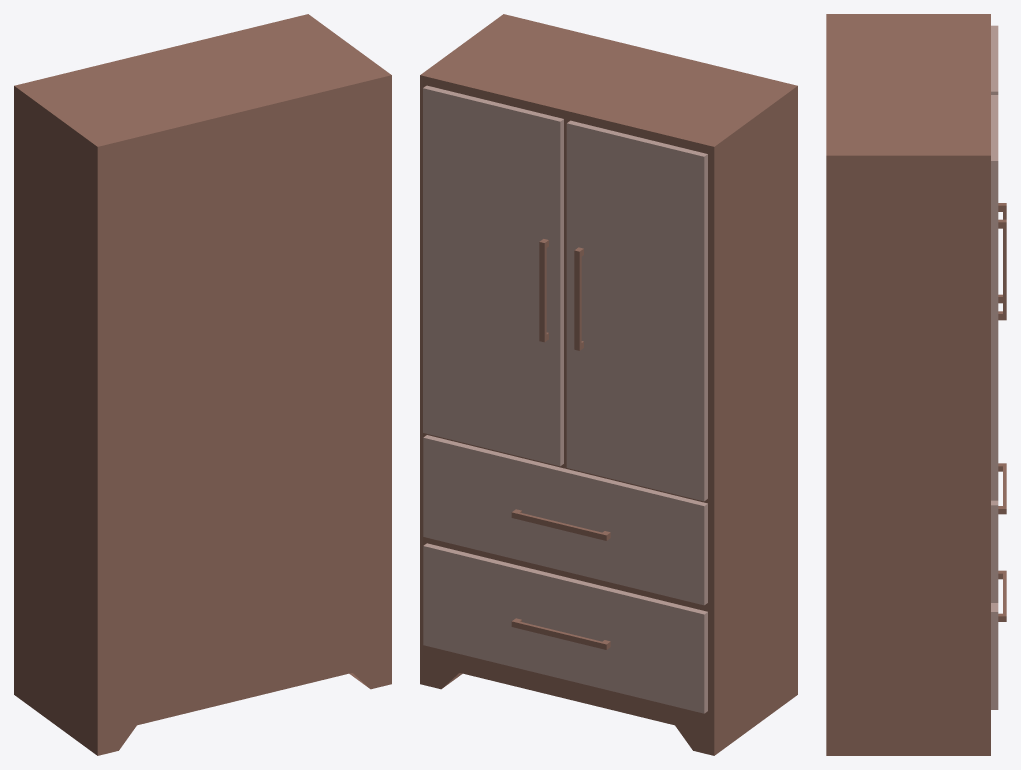
File: 448ace34-419e-4157-b610-4ddf785d524a.glb
The picture shows the model from 3 angles, left to right: view 1: azimuth 30°, elevation 25°; view 2: azimuth 150°, elevation 25°; view 3: azimuth 270°, elevation 25°; orthographic projection.
Visible parts, largest first — view 1: Box001; view 2: Box001, Box003, Box002, Box005, Box004, Box006, Box007, Box008, Box009; view 3: Box001, Box002, Box005, Box004, Box003, Box006.
Boxes of the visible parts, box(x1,y1,x2,y2) form: Box001: box(14, 14, 391, 755); Box001: box(420, 14, 797, 755); Box003: box(566, 120, 707, 501); Box002: box(423, 85, 563, 466); Box005: box(423, 543, 707, 713); Box004: box(423, 435, 707, 605); Box006: box(539, 239, 548, 342); Box007: box(574, 247, 583, 350); Box008: box(511, 509, 610, 540); Box009: box(511, 618, 610, 649); Box001: box(826, 14, 990, 755); Box002: box(991, 95, 998, 500); Box005: box(991, 603, 998, 709); Box004: box(991, 500, 998, 602); Box003: box(991, 25, 998, 94); Box006: box(998, 219, 1006, 320).
Bounding box in the file's own units: 428484 × 847644 × 230853.
